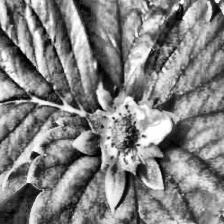Blossom Blight: (98, 102, 148, 168)
